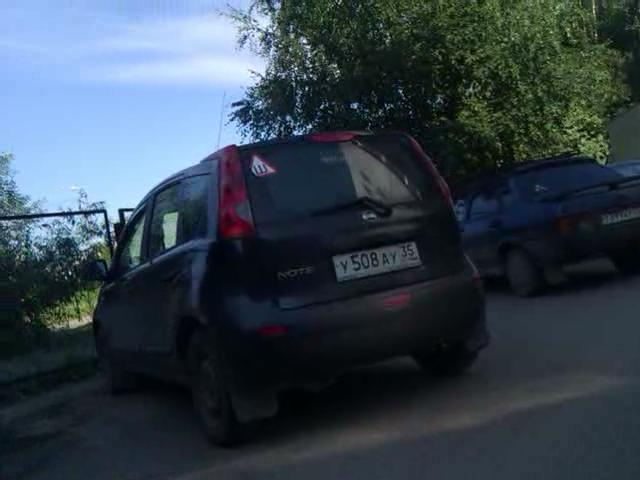car license plate: (330, 238, 421, 281), (601, 203, 639, 229)
